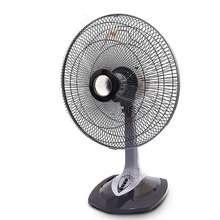fan: (63, 14, 183, 208)
